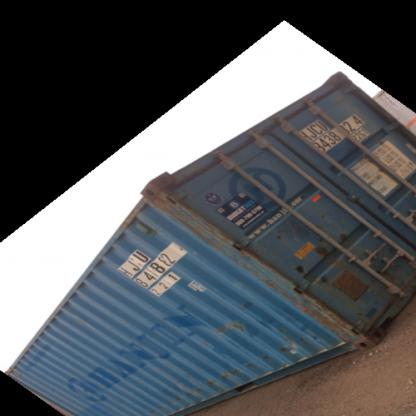Damage: (226, 250, 295, 294), (195, 358, 258, 401), (294, 304, 361, 344), (170, 206, 233, 244), (141, 172, 177, 212), (212, 316, 250, 335), (276, 218, 312, 238), (277, 339, 303, 360), (334, 226, 356, 244), (314, 268, 336, 286), (311, 239, 333, 255), (290, 262, 306, 274)
